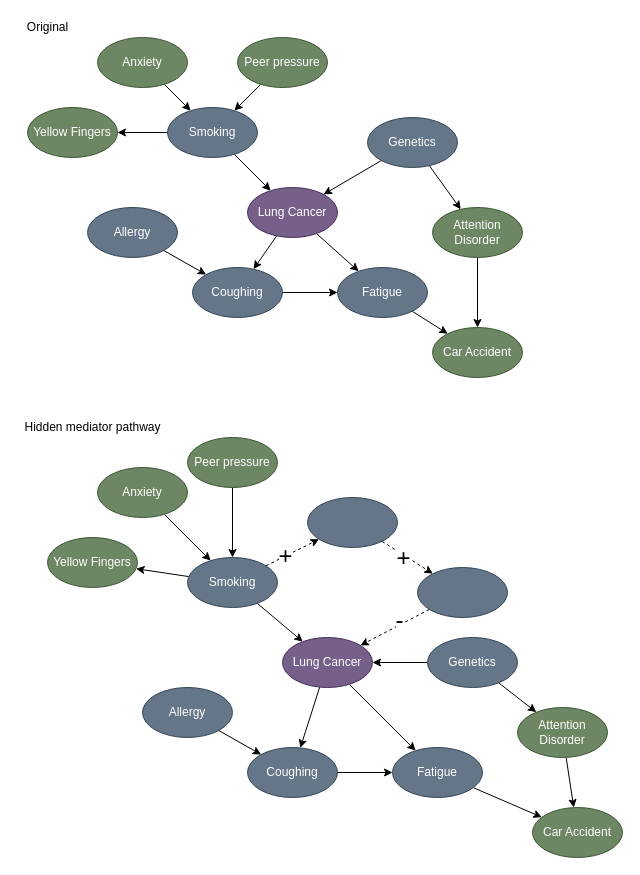
Some shapes in this 640 by 875 pixel diagram are drawn without their labels. Here are the shapes that lost their labels. From the top down, the box of each, then its label:
(306, 496, 398, 548): Health concerns
(416, 566, 508, 618): Frequent checkups
